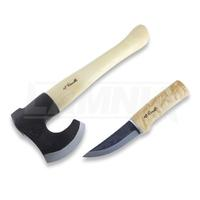knife: (10, 29, 190, 174)
